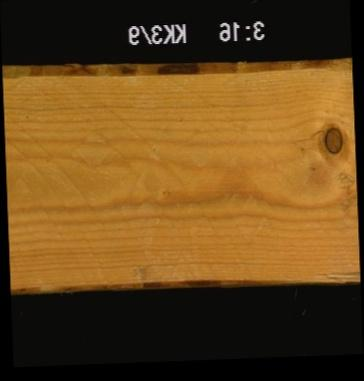dry_knot: (323, 125, 344, 154)
wave: (1, 57, 351, 81), (9, 268, 359, 290)
